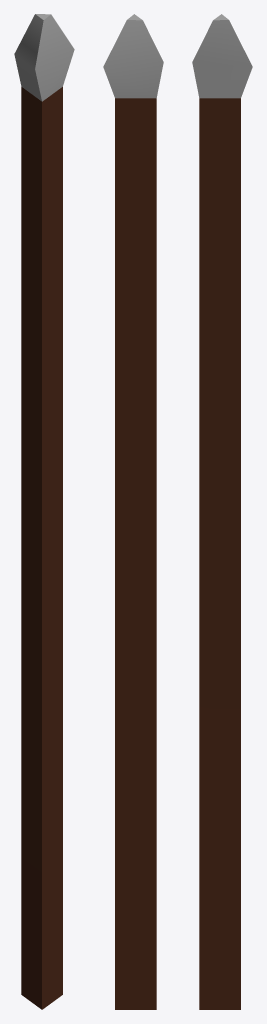
File: Modelo flecha.fbx
3 views of the same model, side by side, from view 1: azimuth 30°, elevation 25°; view 2: azimuth 210°, elevation 25°; view 3: azimuth 330°, elevation 25° (orthographic).
Parts seen in each view (by area): view 1: pCylinder28; view 2: pCylinder28; view 3: pCylinder28.
Part boxes in pixels (bbox=[...]): pCylinder28: bbox=[14, 14, 74, 1009]; pCylinder28: bbox=[103, 14, 163, 1009]; pCylinder28: bbox=[192, 14, 252, 1009].
Bounding box in the file's own units: 0.0525 × 0.9881 × 0.0377.
